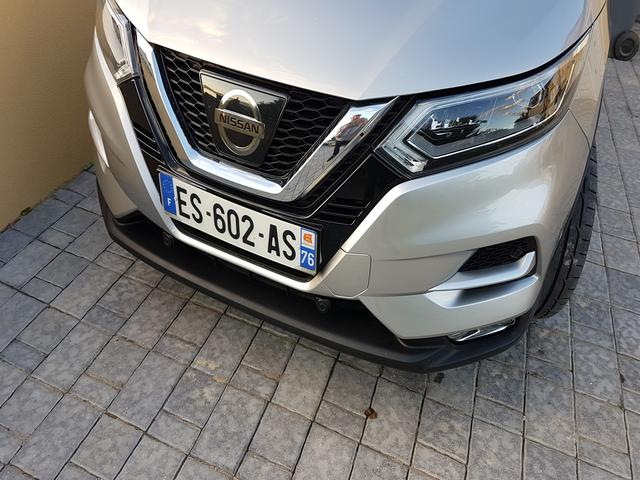Quashquai: (145, 150, 334, 294)
